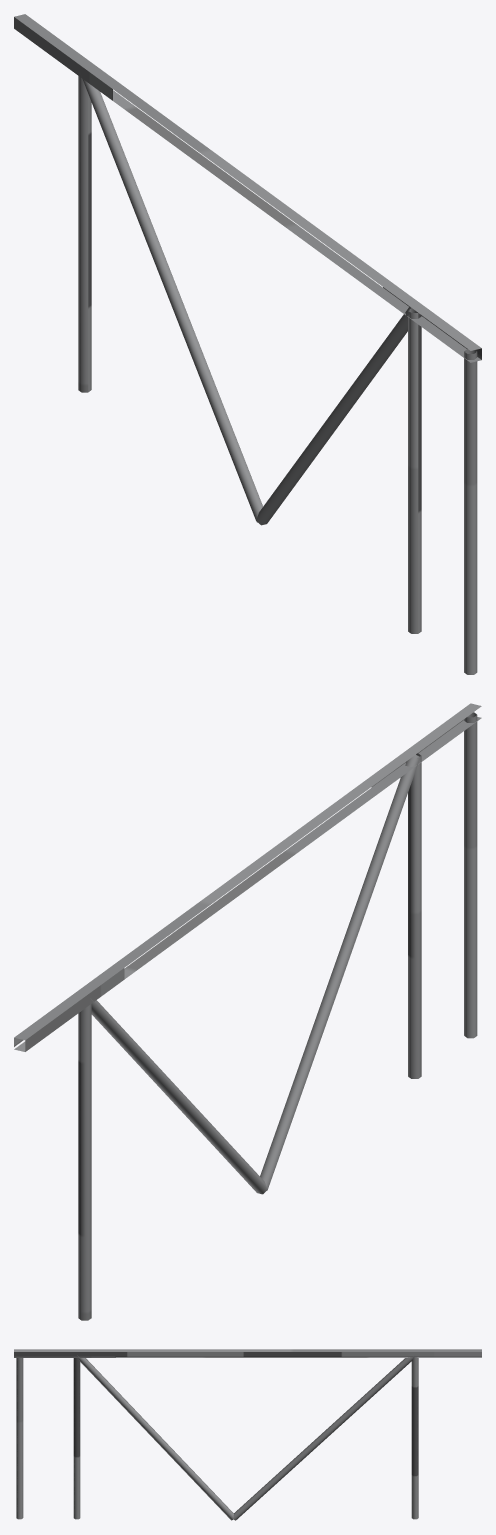
3 views of the same model, one above another, from view 1: azimuth 30°, elevation 25°; view 2: azimuth 150°, elevation 25°; view 3: azimuth 270°, elevation 25° (orthographic). The views are drawn at different scales.
Bounding box in the file's own units: 0.036 × 0.9785 × 2.45.
